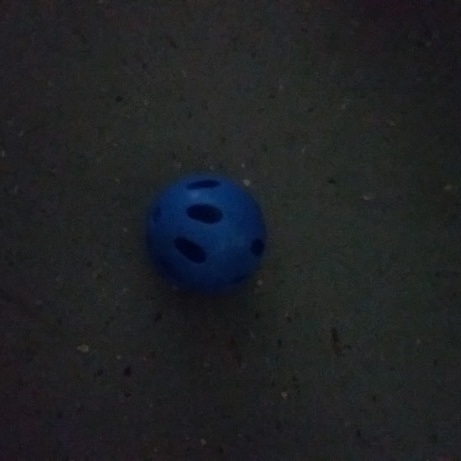blueball: (143, 169, 272, 300)
